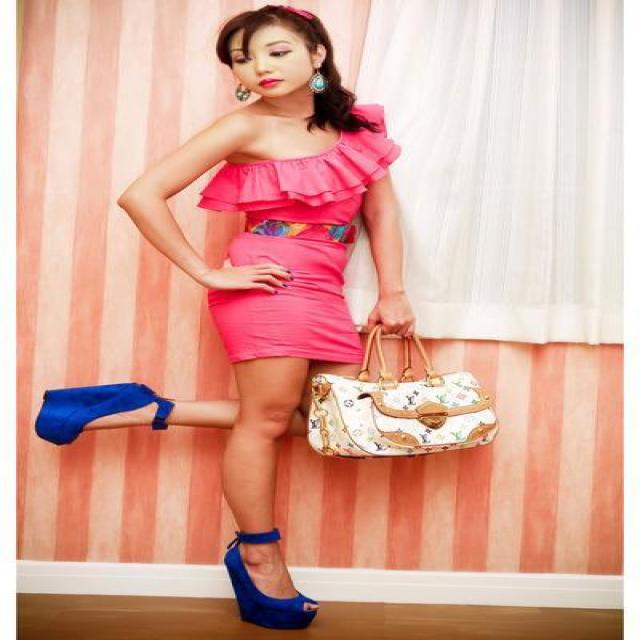bag: (309, 344, 494, 454)
dress: (197, 103, 398, 370)
shoe: (35, 383, 317, 629)
